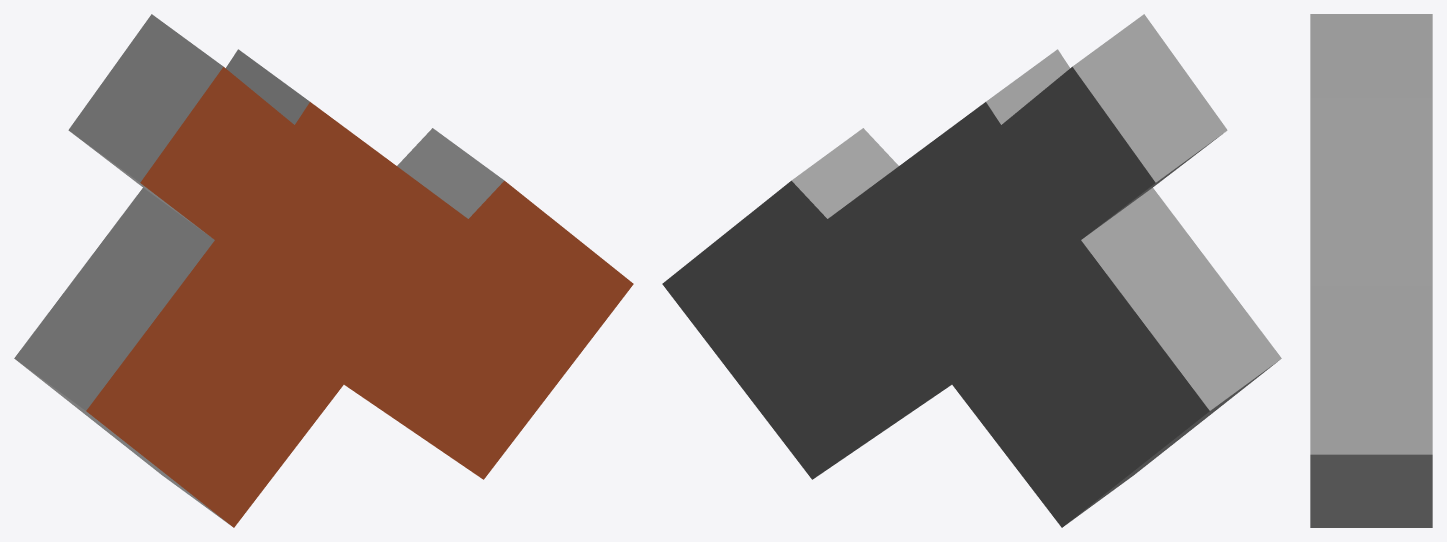
File: construction_6088_assumed_A_Casa_h6m.obj
3 renders of one model, left to right at view 1: azimuth 30°, elevation 25°; view 2: azimuth 150°, elevation 25°; view 3: azimuth 270°, elevation 25°, orthographic. The views are drawn at different scales.
Parts seen in each view (by area): view 1: construction_6088_assumed_A_Casa; view 2: construction_6088_assumed_A_Casa; view 3: construction_6088_assumed_A_Casa.
Boxes of the visible parts, left/top/right/bottom form: construction_6088_assumed_A_Casa: left=14, top=14, right=633, bottom=527; construction_6088_assumed_A_Casa: left=662, top=14, right=1281, bottom=527; construction_6088_assumed_A_Casa: left=1310, top=14, right=1432, bottom=527.
Size of the model in its own units: 26.4 by 21.95 by 6.
